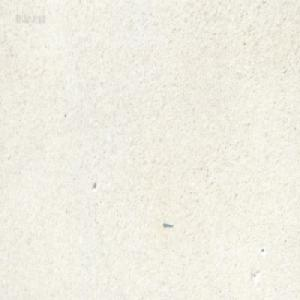Nail: (162, 220, 173, 227)
